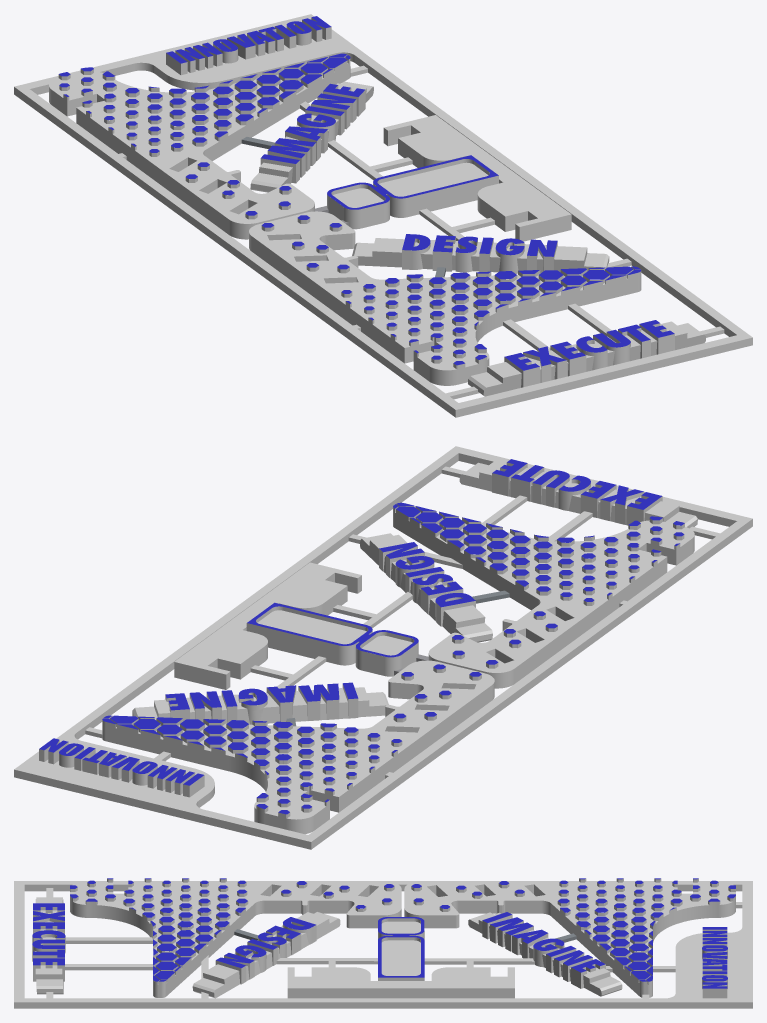
The model's file is Kit-card.glb.
The picture shows the model from 3 angles, top to bottom: view 1: azimuth 30°, elevation 25°; view 2: azimuth 150°, elevation 25°; view 3: azimuth 270°, elevation 25°; orthographic projection. The views are drawn at different scales.
Size of the model in its own units: 0.08 by 0.00518 by 0.206.
